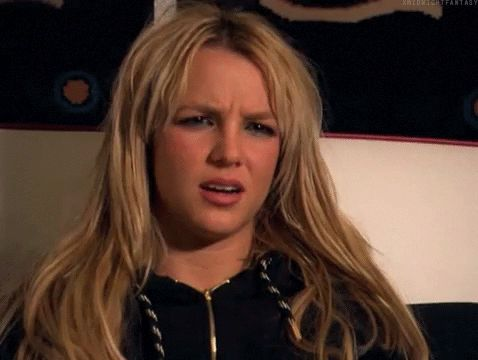confused: (162, 89, 280, 237)
